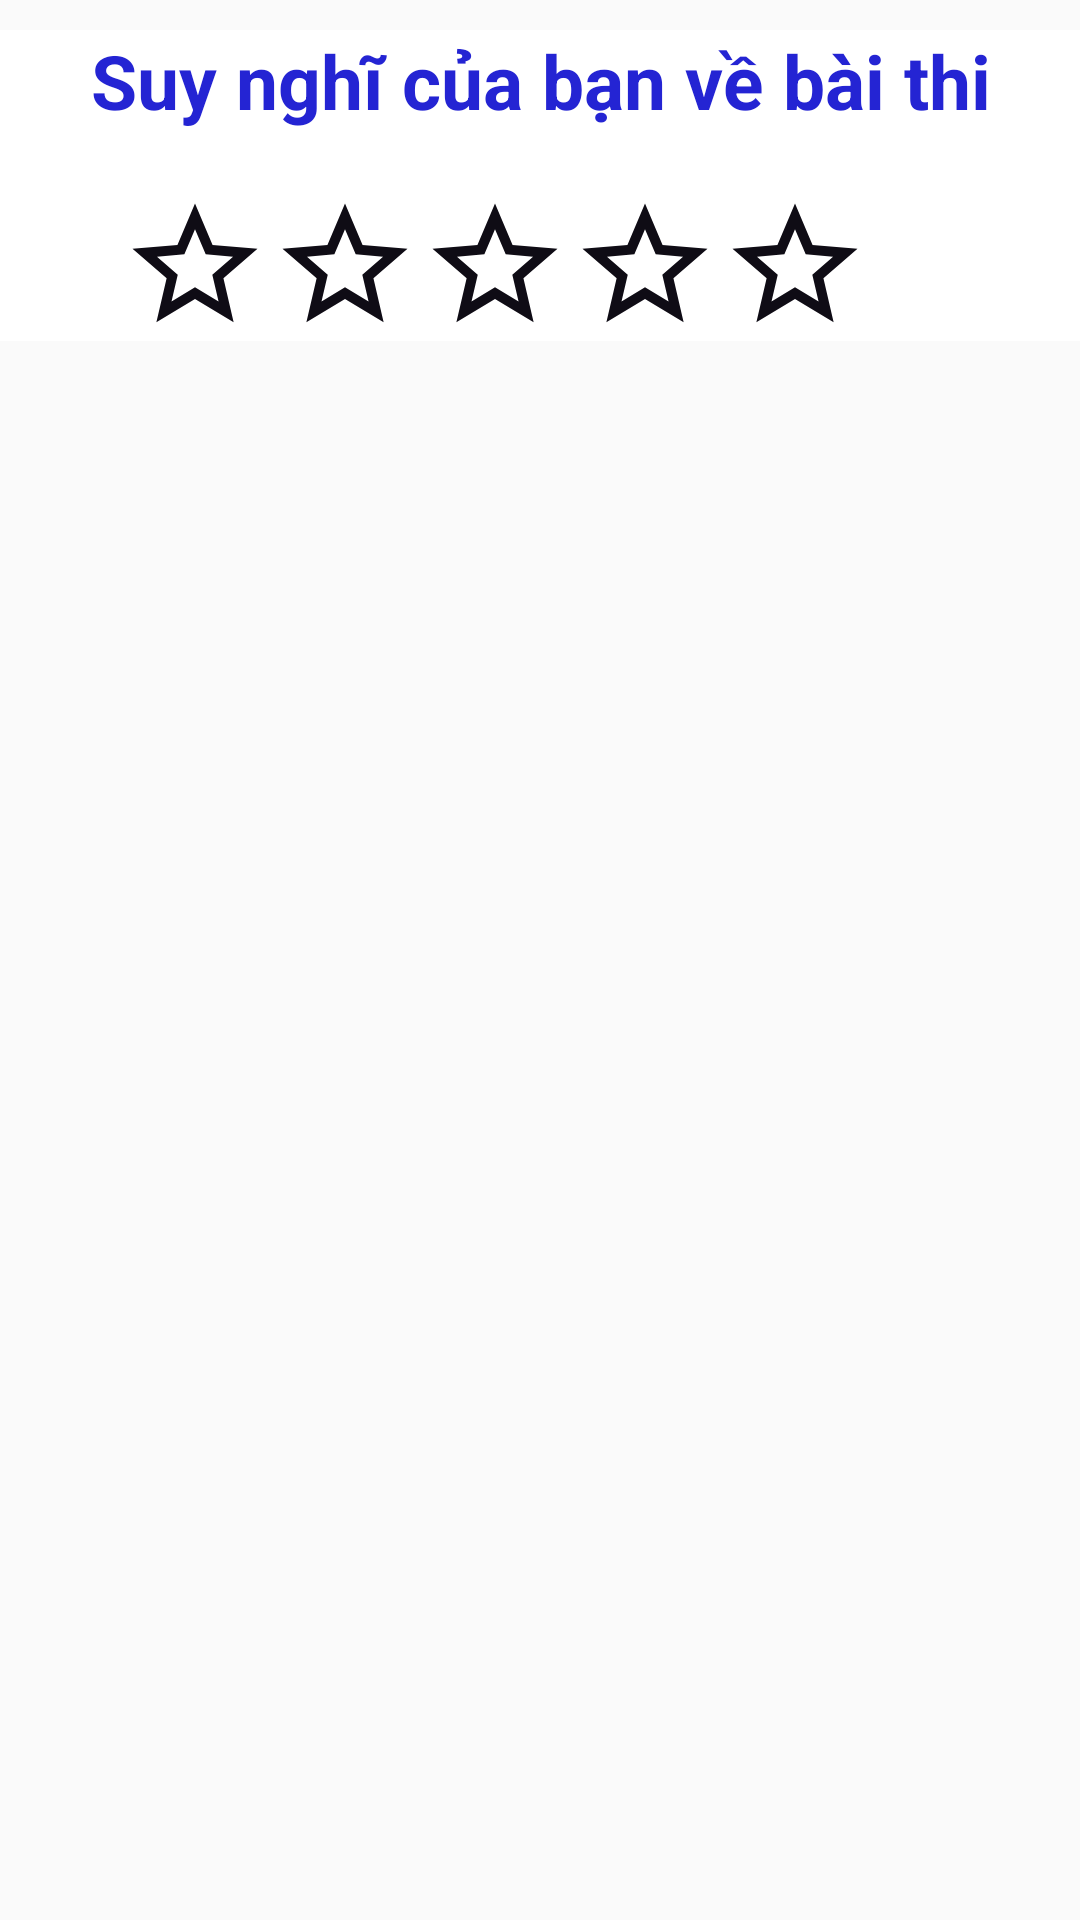

Where icons sit on this 1080px x 1920px app screen, as (x1,y1,x2,y2):
star border: (133,204,257,322), (283,204,407,322), (433,204,557,322), (583,204,707,322), (733,204,857,322)
